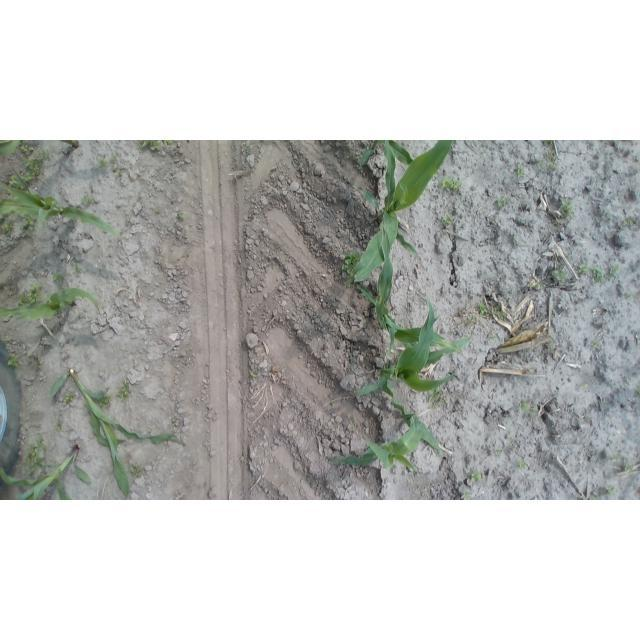Maize: (355, 289, 474, 454), (49, 367, 187, 500), (348, 142, 463, 287), (358, 221, 467, 360), (324, 398, 436, 475), (0, 170, 120, 239), (0, 439, 92, 500), (0, 286, 102, 323), (358, 140, 418, 170), (0, 141, 80, 158)
Weeds: (23, 437, 49, 475), (22, 148, 50, 183), (17, 283, 43, 306), (341, 249, 362, 277), (538, 149, 559, 172), (438, 175, 462, 194), (137, 141, 176, 152), (557, 197, 575, 219), (428, 387, 445, 410), (109, 154, 125, 178), (19, 214, 37, 234), (117, 381, 132, 404), (552, 267, 568, 285), (592, 266, 607, 285), (6, 354, 22, 371), (493, 305, 508, 320), (131, 462, 146, 476), (608, 264, 620, 281), (98, 395, 112, 409), (442, 212, 456, 226), (51, 272, 66, 285), (577, 262, 590, 277), (2, 219, 15, 234), (461, 486, 476, 499), (31, 356, 44, 370), (80, 194, 95, 206), (469, 470, 484, 482), (98, 154, 109, 170), (495, 196, 509, 208), (477, 302, 488, 317), (517, 400, 529, 413), (516, 458, 529, 470), (8, 174, 20, 187), (602, 485, 616, 496), (63, 392, 74, 406), (514, 164, 526, 176), (464, 313, 476, 325), (527, 405, 538, 418), (20, 142, 32, 153), (175, 209, 186, 221), (53, 420, 63, 433), (625, 217, 636, 227), (493, 448, 504, 458), (624, 290, 635, 300), (611, 452, 622, 462), (622, 463, 634, 472), (591, 339, 601, 349), (249, 369, 260, 378), (154, 206, 163, 217), (73, 265, 82, 276), (577, 381, 587, 390), (488, 333, 499, 341), (546, 341, 554, 350), (606, 214, 614, 222), (509, 441, 516, 450), (535, 282, 542, 290), (588, 495, 601, 499), (543, 140, 553, 144), (637, 387, 640, 398), (513, 235, 518, 241)
